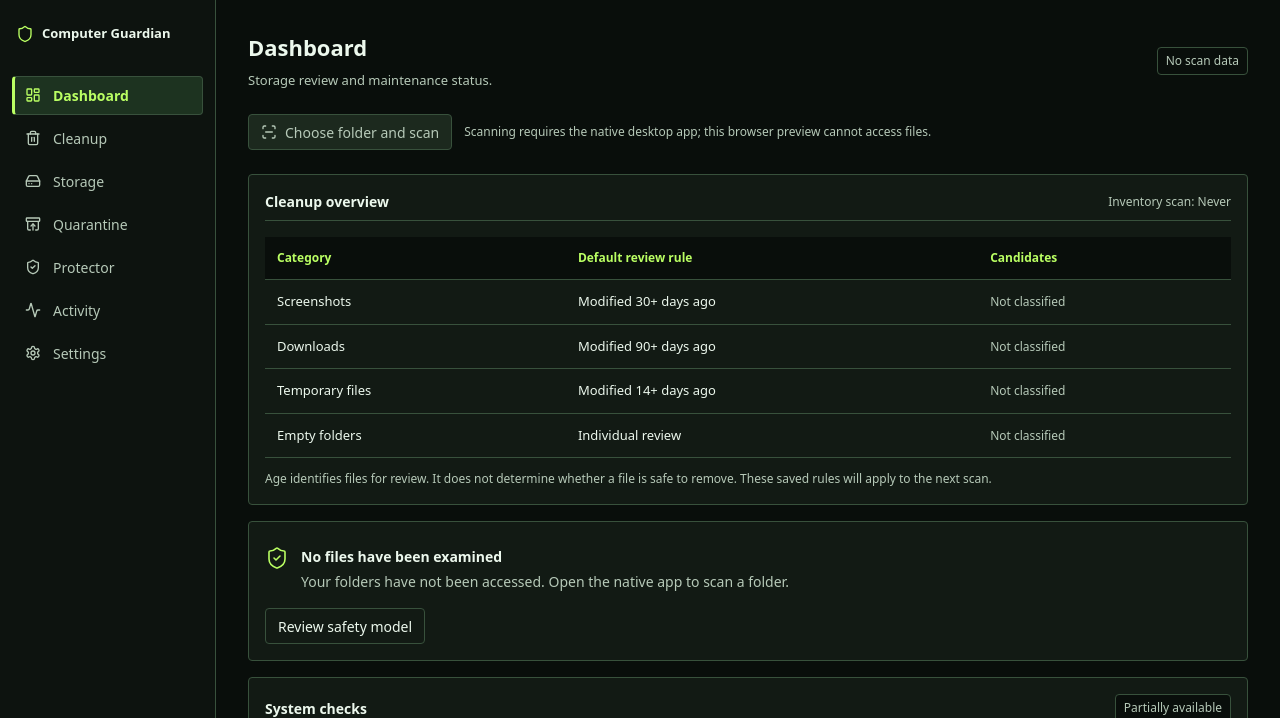
Test: application shell › rejects unsafe saved scan rules and restores defaults
The width and height of the screenshot is (1280, 718).
Click the button "Settings": (108, 353) [12,334,203,372]
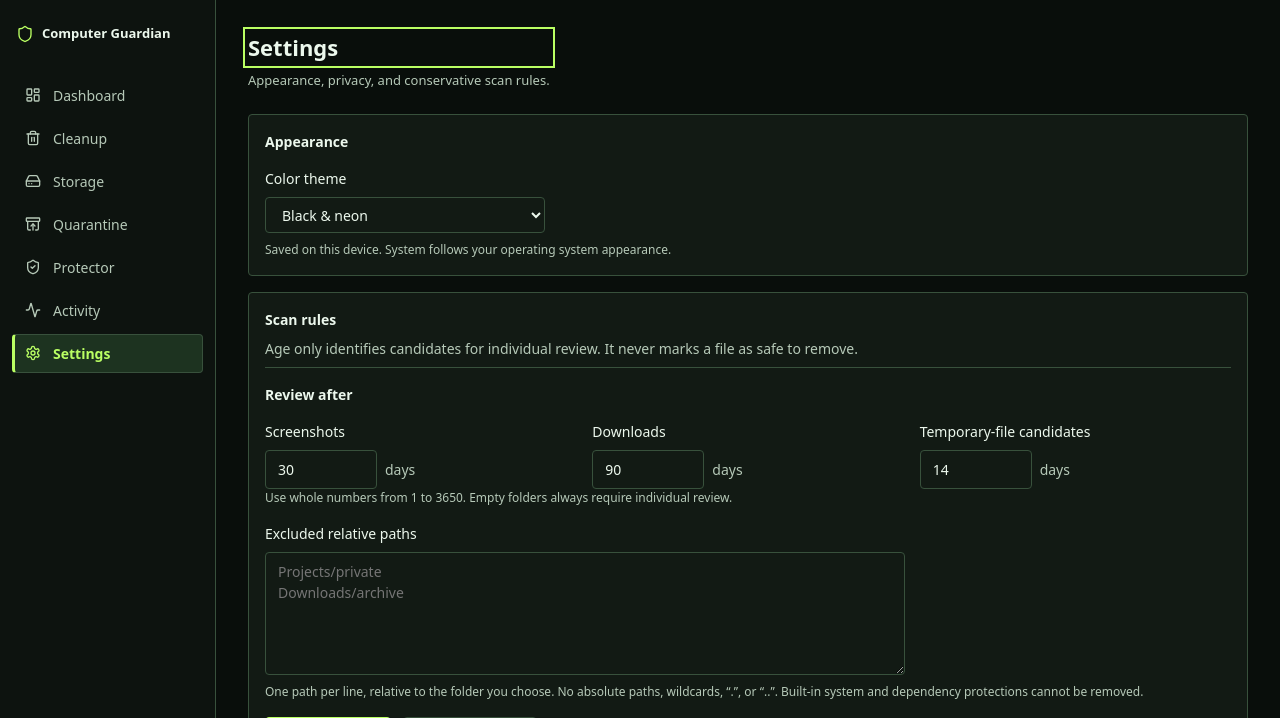
Result: the number field labelled "Screenshots" holds "30" at [265,450,377,489]
Result: the text box labelled "Excluded relative paths" is empty at [265,552,905,675]
